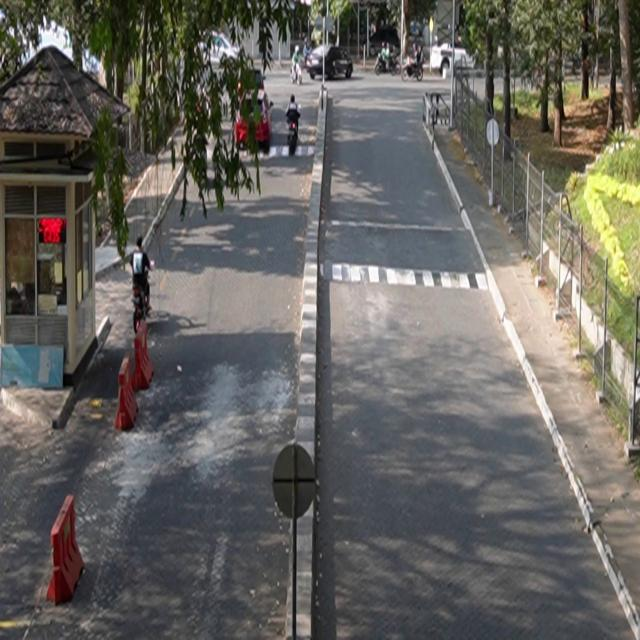car: (307, 45, 354, 80)
